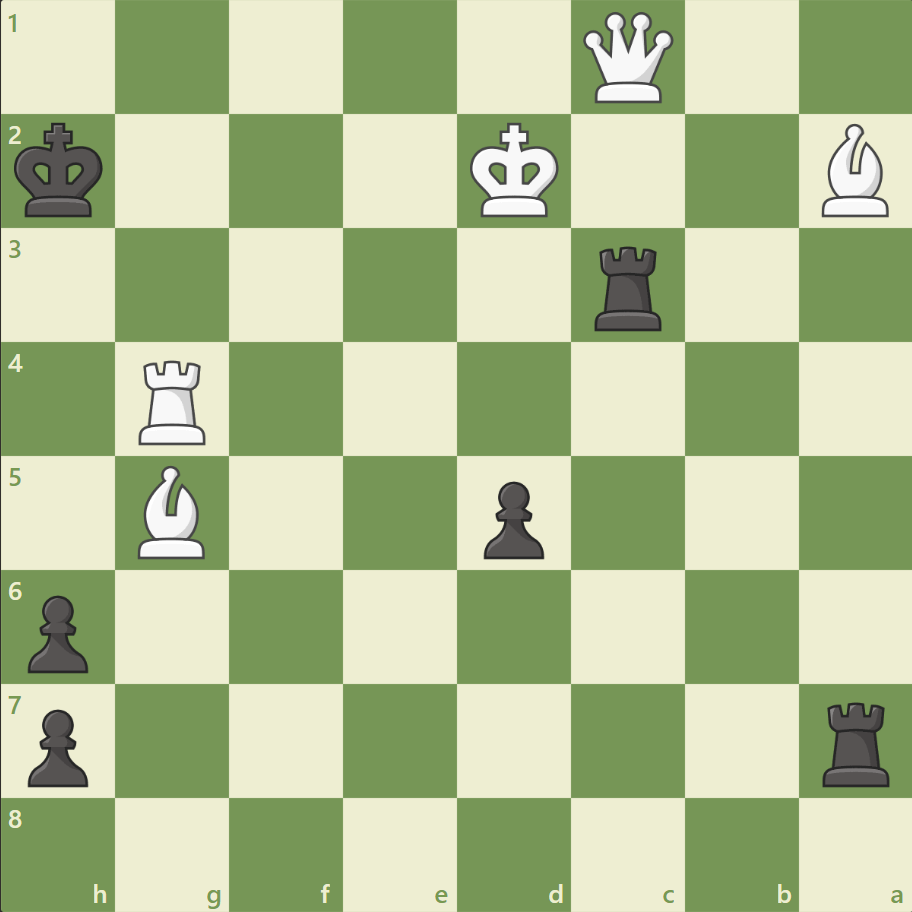B: (131, 460, 215, 563), (812, 120, 896, 222)
K: (465, 117, 565, 225)
Q: (578, 9, 677, 108)
R: (133, 352, 215, 449)
k: (11, 117, 111, 225)
p: (20, 700, 95, 791), (20, 586, 95, 677), (474, 473, 549, 564)
r: (814, 693, 897, 790), (587, 239, 670, 336)
